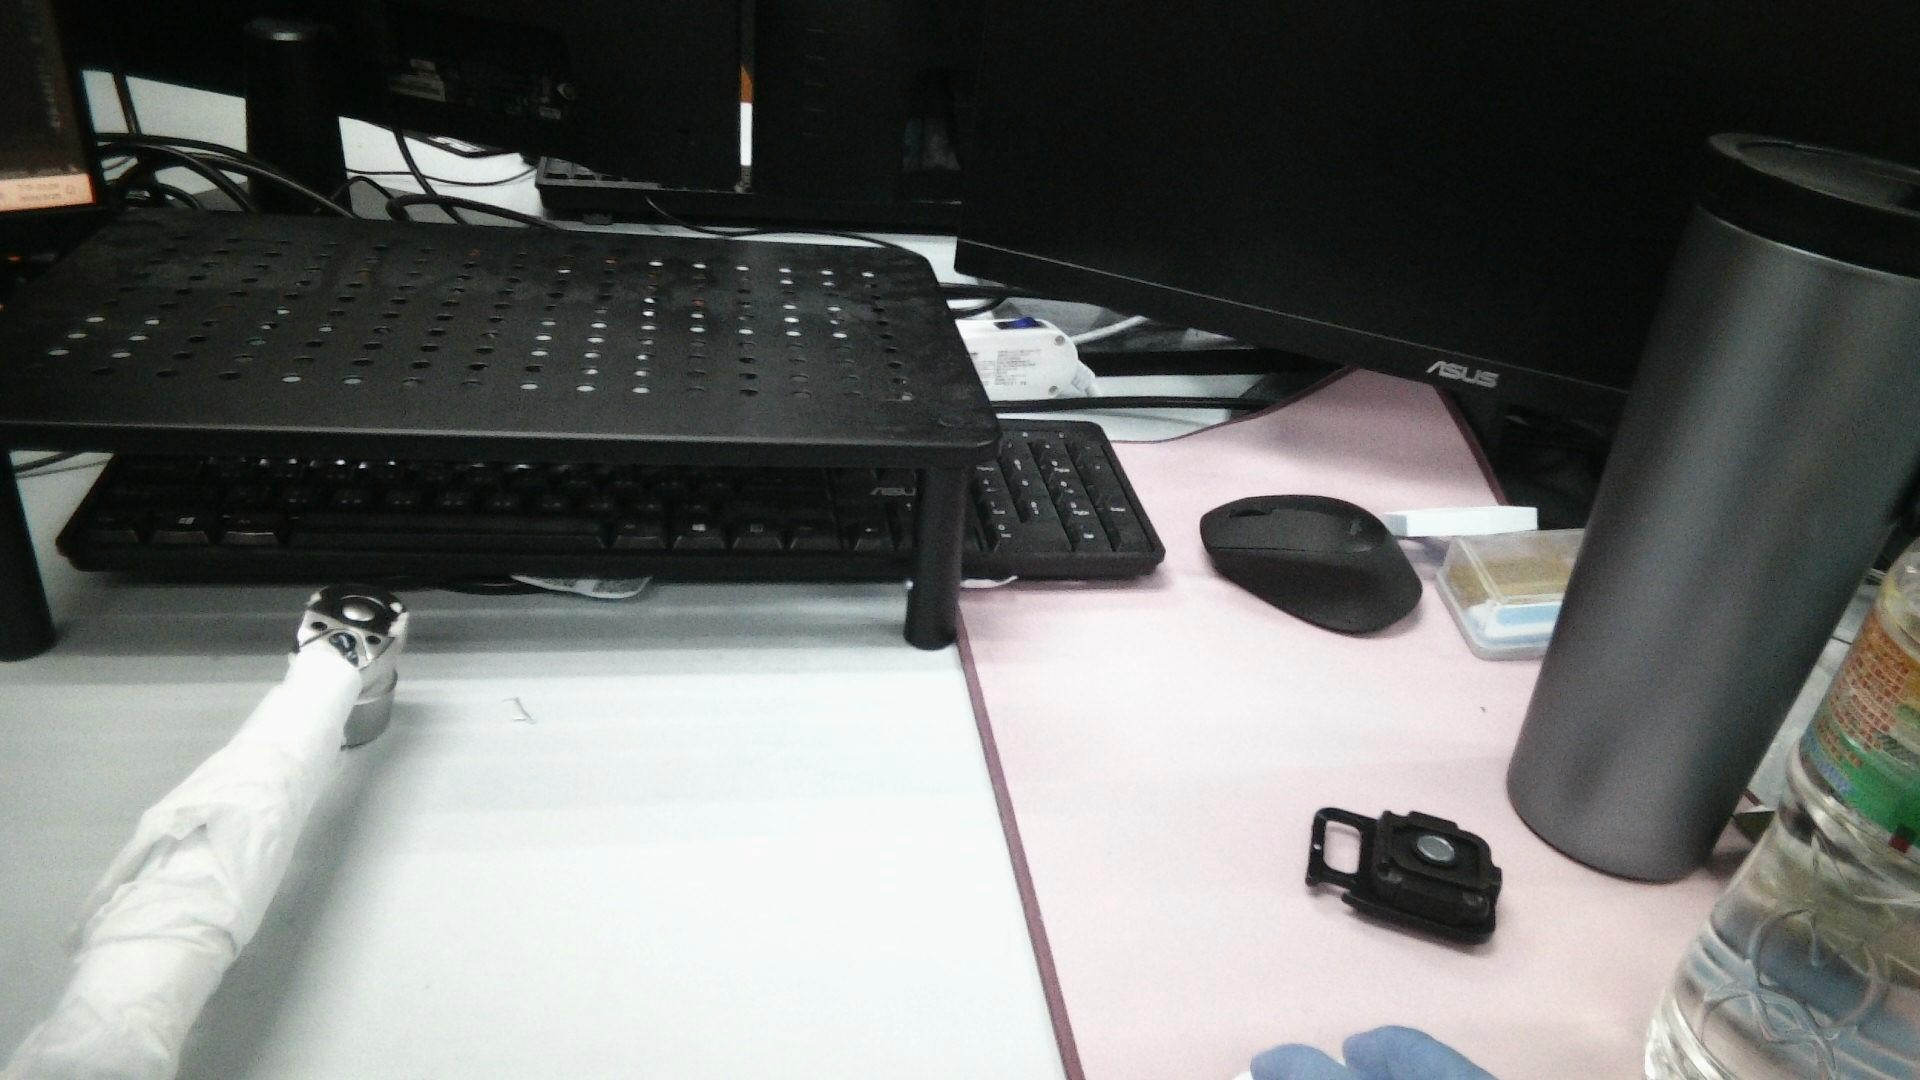wrench: (326, 593, 389, 634)
